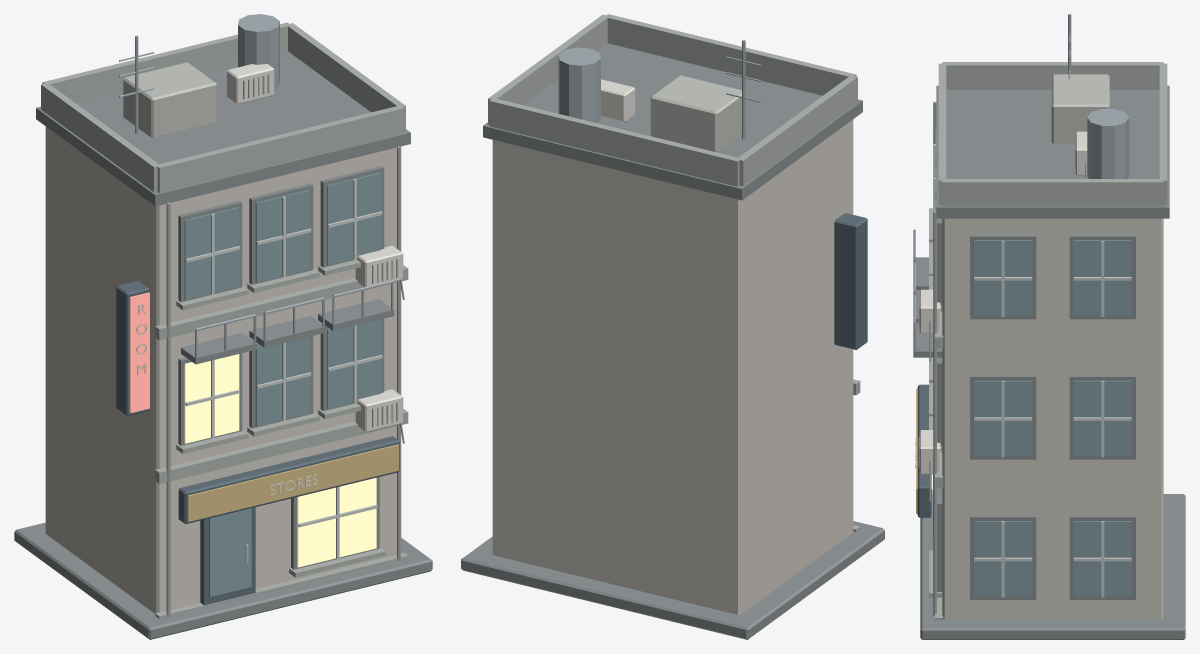
The model's file is SM_ENV_Building_00_House.glb.
The picture shows the model from 3 angles, left to right: view 1: azimuth 30°, elevation 25°; view 2: azimuth 150°, elevation 25°; view 3: azimuth 270°, elevation 25°; orthographic projection. The views are drawn at different scales.
Visible parts, largest first — view 1: SM_ENV_Building_00_House; view 2: SM_ENV_Building_00_House; view 3: SM_ENV_Building_00_House.
Boxes of the visible parts, <box> form: SM_ENV_Building_00_House: <box>14,14,432,639</box>; SM_ENV_Building_00_House: <box>461,14,884,639</box>; SM_ENV_Building_00_House: <box>913,14,1185,639</box>.
Size of the model in its own units: 5.86 by 10.4 by 4.93.
